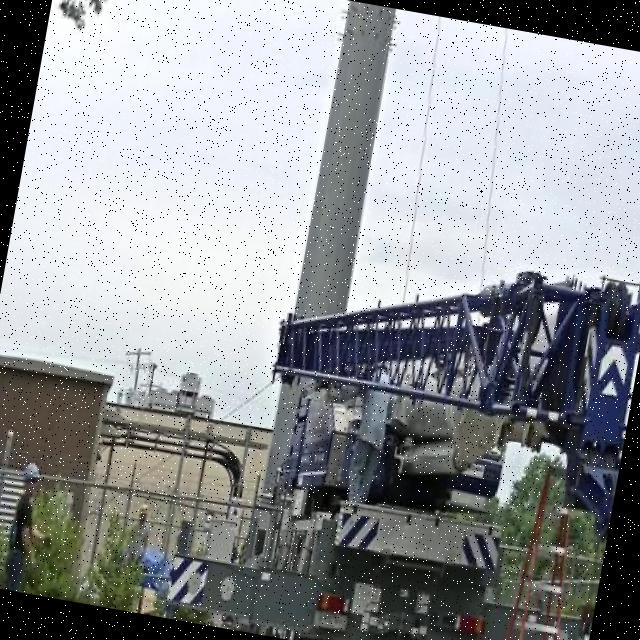Mobile Crane: (218, 205, 640, 640)
